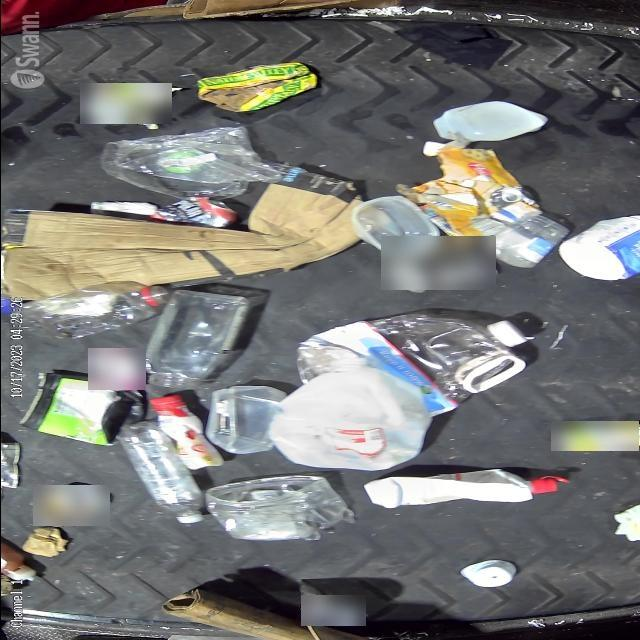milk_jug: (266, 367, 428, 468), (556, 211, 640, 279), (432, 102, 544, 144)
plastic_bottle: (118, 418, 206, 526), (14, 282, 168, 338)
